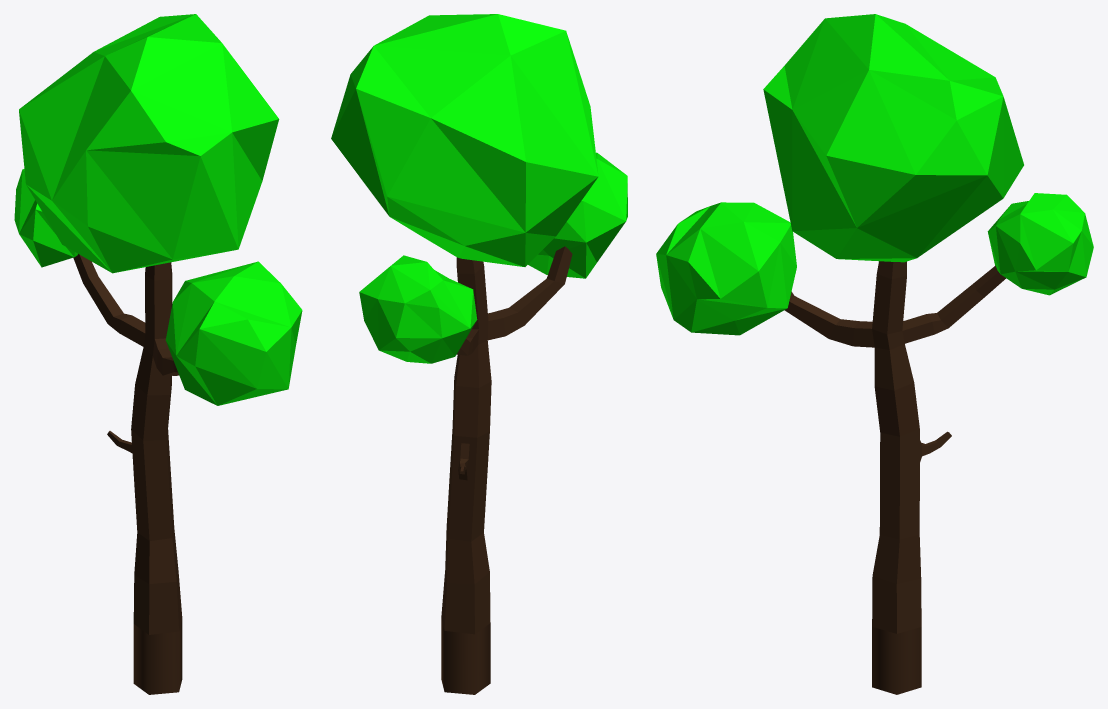
File: tree2.FBX
3 renders of one model, left to right at view 1: azimuth 30°, elevation 25°; view 2: azimuth 150°, elevation 25°; view 3: azimuth 270°, elevation 25°, orthographic.
Parts seen in each view (by area): view 1: Hedra001, Cylinder001, Hedra003, Hedra002; view 2: Hedra001, Cylinder001, Hedra002, Hedra003; view 3: Hedra001, Cylinder001, Hedra003, Hedra002.
Part boxes in pixels (box(x1,y1,x2,y2)): Hedra001: box(19, 14, 279, 273); Cylinder001: box(73, 254, 182, 694); Hedra003: box(165, 261, 302, 405); Hedra002: box(14, 169, 77, 267); Hedra001: box(331, 14, 598, 266); Cylinder001: box(441, 246, 572, 694); Hedra002: box(359, 255, 477, 363); Hedra003: box(528, 152, 627, 278); Hedra001: box(763, 14, 1023, 262); Cylinder001: box(784, 261, 1005, 694); Hedra003: box(656, 202, 796, 335); Hedra002: box(987, 193, 1093, 295).
Bounding box in the file's own units: 777 × 2165 × 1304.
